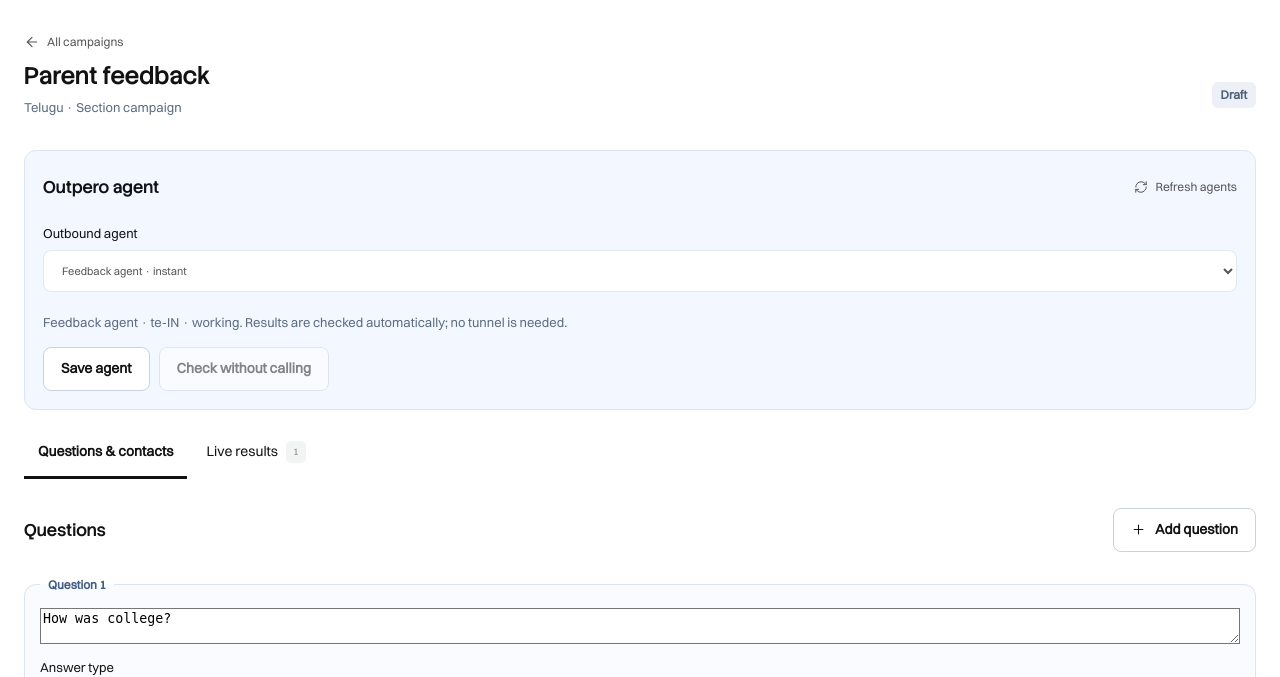
Test: direct API mode shows inbound agents as unavailable and saves an eligible outbound agent
Step 1. Click the button "Save agent" → (96, 369), box [43,347,150,391]
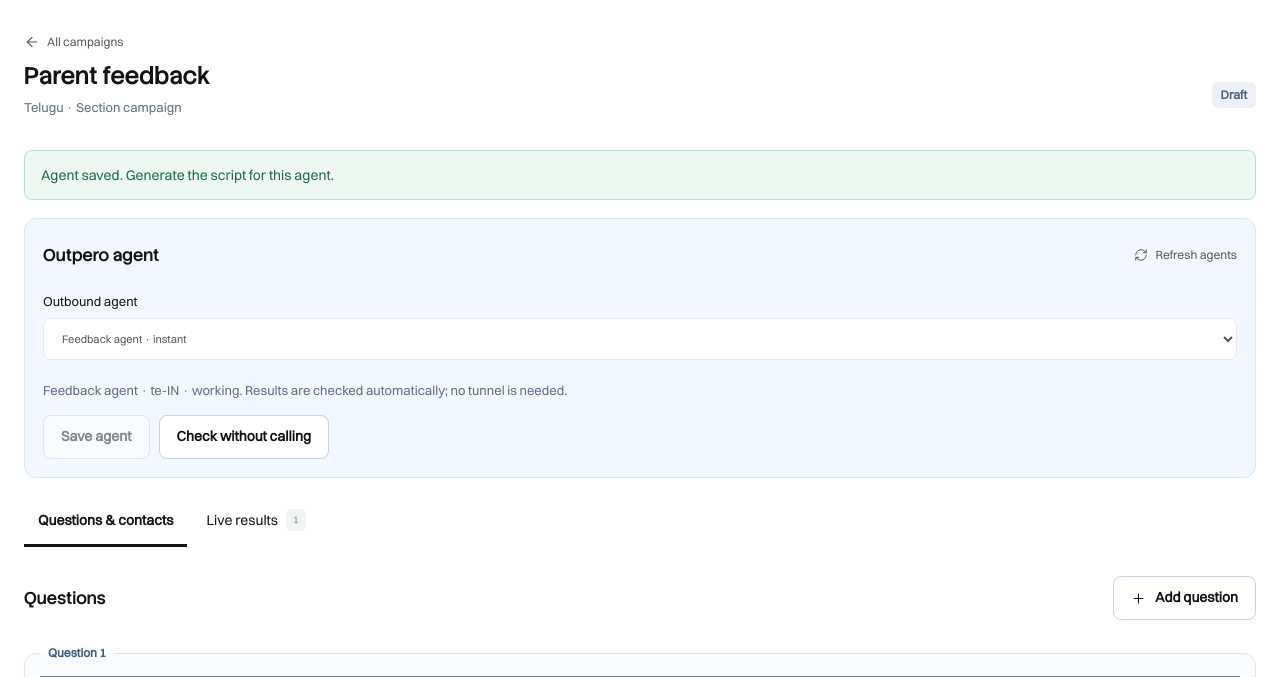
Expected: the text "Agent saved. Generate the script for this agent." is shown, [24,150,1256,200]
Step 2. Click the button "Check without calling" → (244, 437), box [158,415,329,459]
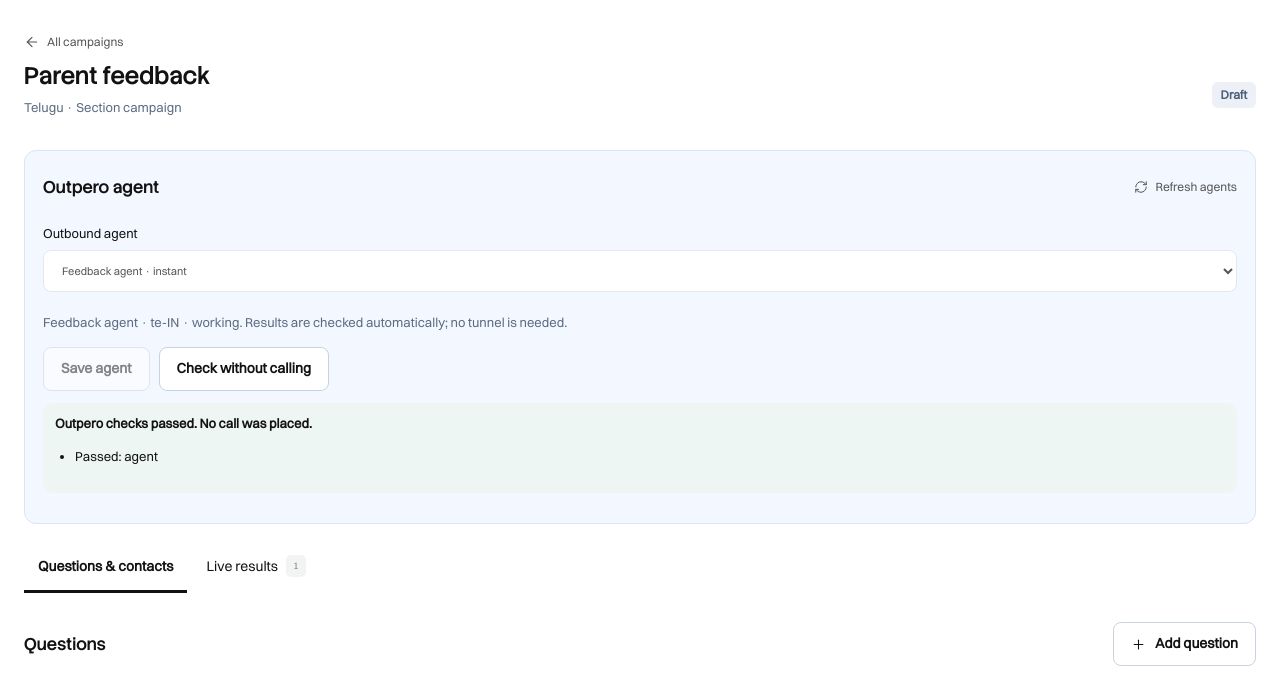
Expected: the text "Outpero checks passed. No call was placed." is shown, [55,415,312,431]
